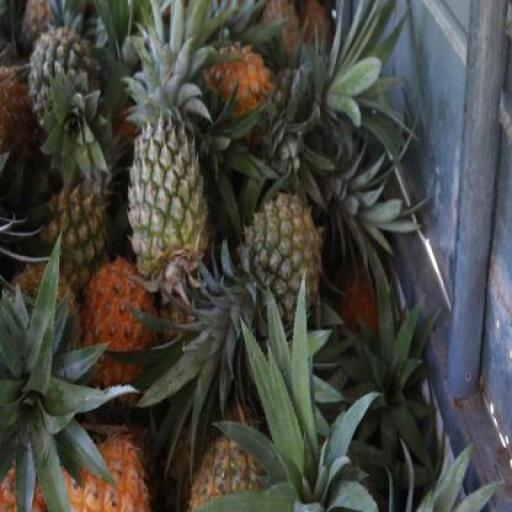Pineapple - v8 v1: (78, 254, 153, 403), (49, 424, 158, 512), (202, 47, 280, 130)
